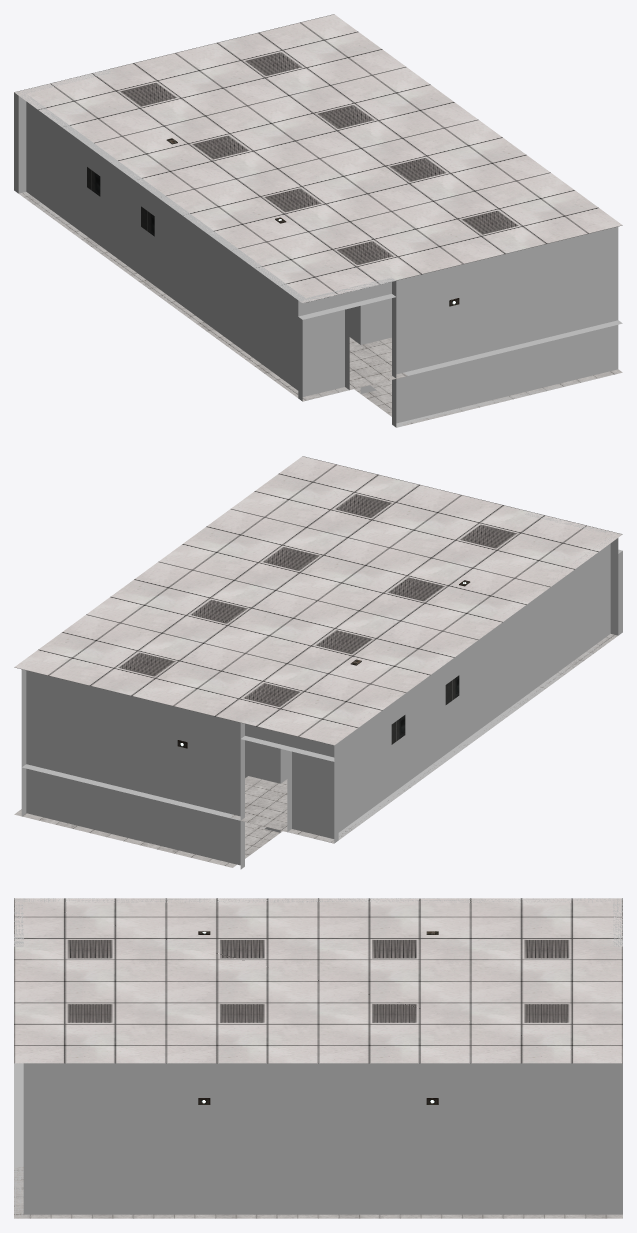
Rendered from room2offices2_opt.fbx.
3 renders of one model, top to bottom at view 1: azimuth 30°, elevation 25°; view 2: azimuth 150°, elevation 25°; view 3: azimuth 270°, elevation 25°, orthographic. The views are drawn at different scales.
Parts seen in each view (by area): view 1: Scene_Root; view 2: Scene_Root; view 3: Scene_Root.
Boxes of the visible parts, box(x1,y1,x2,y2) form: Scene_Root: box(14, 14, 622, 427); Scene_Root: box(14, 456, 622, 869); Scene_Root: box(14, 898, 622, 1218).
Bounding box in the file's own units: 951 × 420 × 1485.
